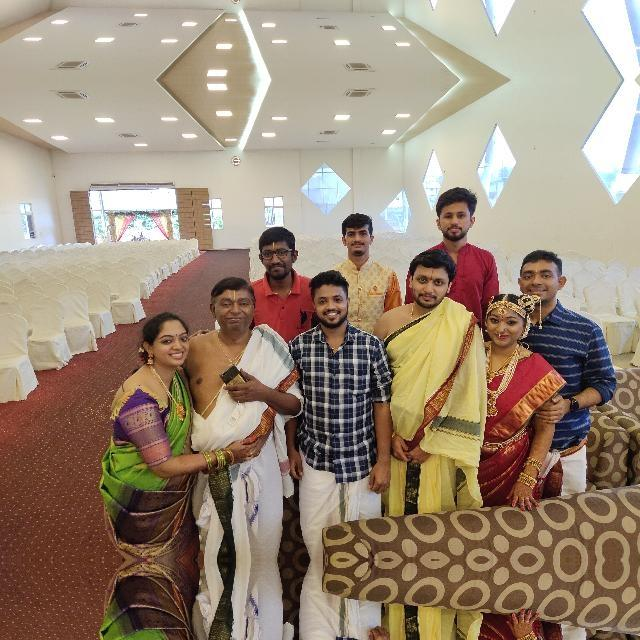person: (199, 272, 271, 410), (297, 269, 367, 396), (124, 294, 192, 400), (404, 242, 461, 340), (424, 178, 496, 248), (478, 286, 532, 376), (517, 242, 571, 318), (242, 212, 304, 278), (328, 194, 384, 266)
